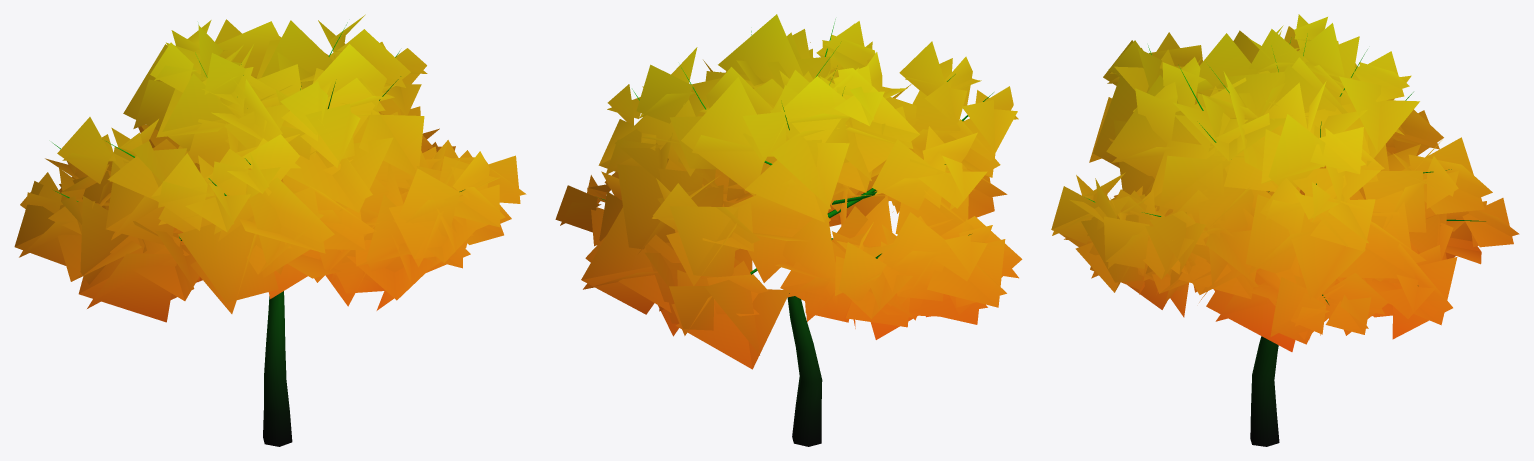
The model's file is small_birch.obj.
The picture shows the model from 3 angles, left to right: view 1: azimuth 30°, elevation 25°; view 2: azimuth 150°, elevation 25°; view 3: azimuth 270°, elevation 25°; orthographic projection.
Visible parts, largest first — view 1: SmallBirch; view 2: SmallBirch; view 3: SmallBirch.
Boxes of the visible parts, x1,y1,x2,y2 form: SmallBirch: [14, 14, 526, 446]; SmallBirch: [555, 14, 1022, 446]; SmallBirch: [1051, 14, 1519, 446].
Size of the model in its own units: 18.04 by 15.97 by 17.07.
